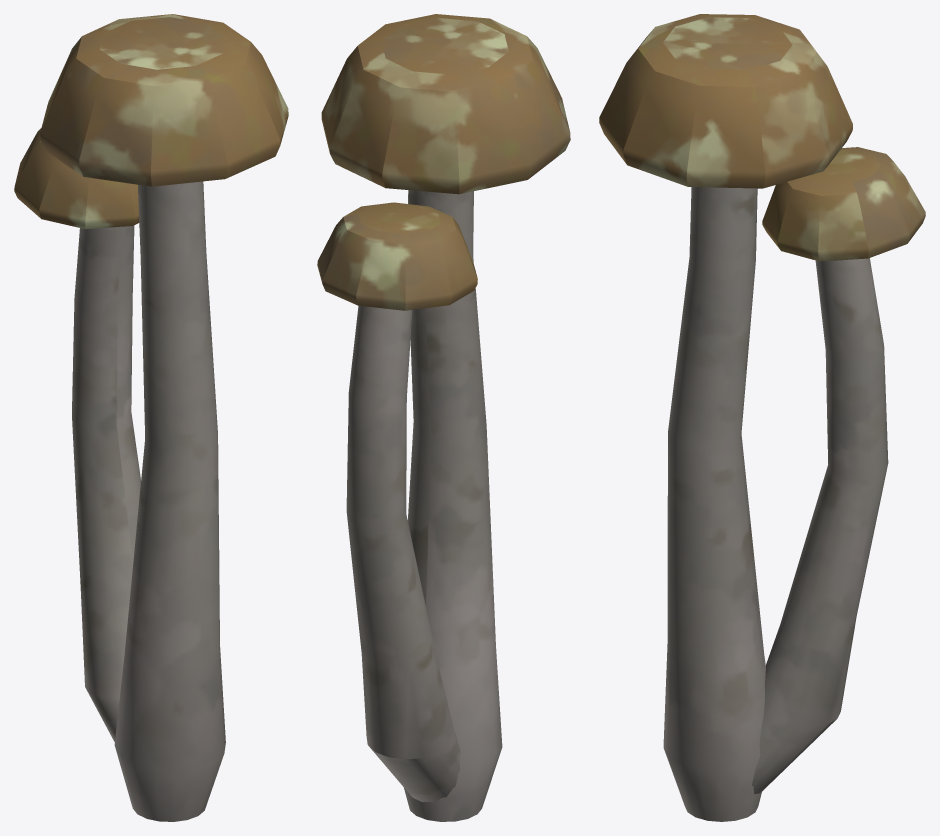
File: Sm_Fungus4.fbx
3 renders of one model, left to right at view 1: azimuth 30°, elevation 25°; view 2: azimuth 150°, elevation 25°; view 3: azimuth 270°, elevation 25°, orthographic.
Visible parts, largest first — view 1: Sm_Fungus4; view 2: Sm_Fungus4; view 3: Sm_Fungus4.
Part boxes in pixels (x1=…): Sm_Fungus4: x1=14, y1=14, x2=288, y2=821; Sm_Fungus4: x1=317, y1=14, x2=570, y2=821; Sm_Fungus4: x1=599, y1=14, x2=925, y2=821.
Size of the model in its own units: 8.18 by 28.51 by 11.07.
